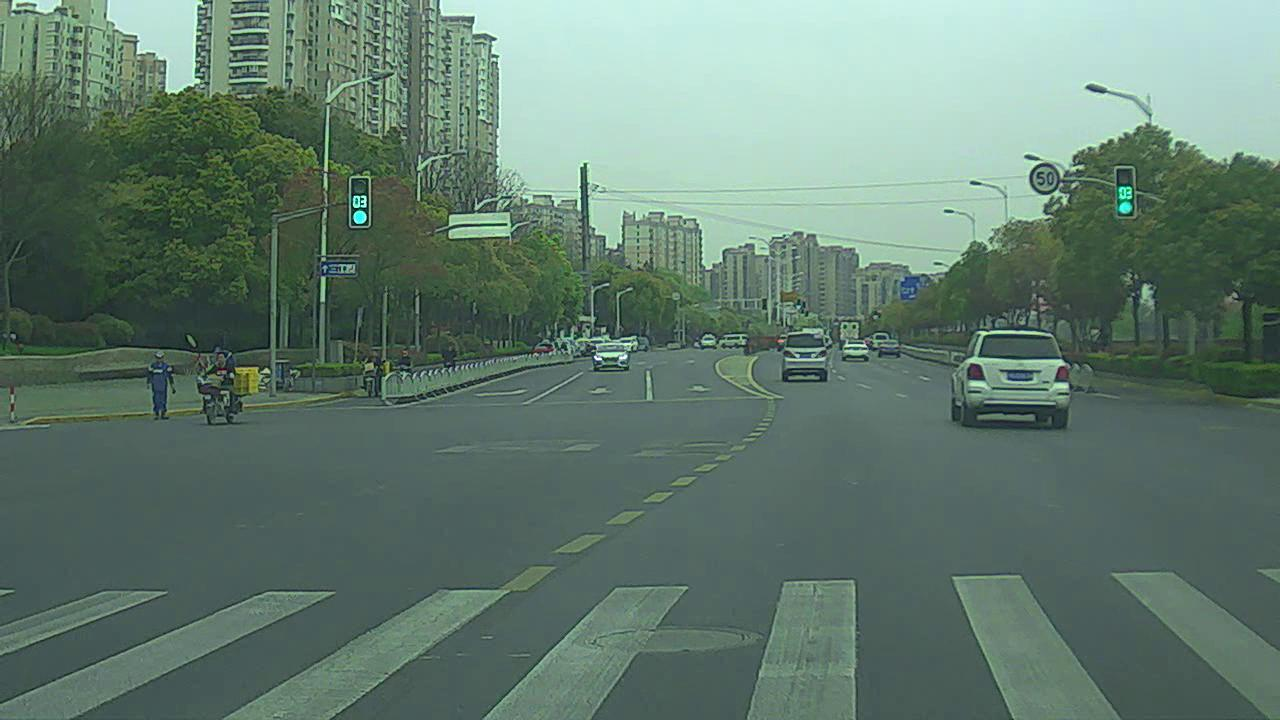traffic_light: (1112, 165, 1138, 218), (345, 174, 371, 225)
